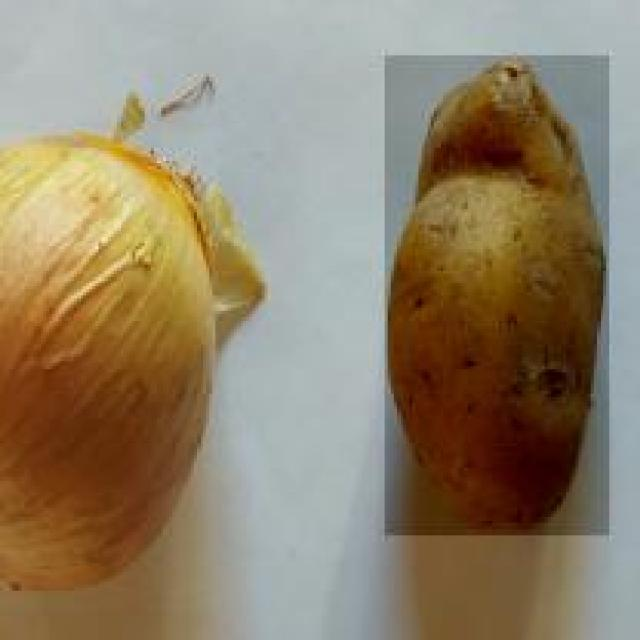onion: (0, 129, 218, 612)
potato: (382, 56, 609, 538)
